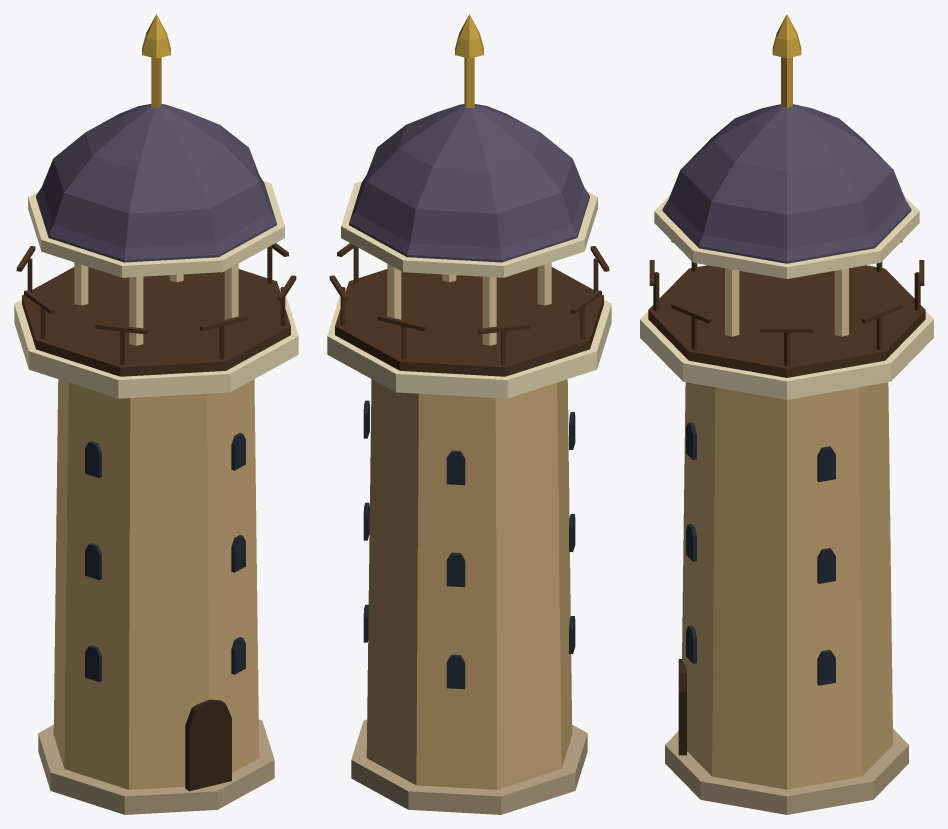
Rendered from tower_watch_round.fbx.
The picture shows the model from 3 angles, left to right: view 1: azimuth 30°, elevation 25°; view 2: azimuth 150°, elevation 25°; view 3: azimuth 270°, elevation 25°; orthographic projection.
Visible parts, largest first — view 1: tower_watch_round; view 2: tower_watch_round; view 3: tower_watch_round.
Boxes of the visible parts, x1,y1,x2,y2 form: tower_watch_round: (14, 14, 298, 814); tower_watch_round: (327, 14, 611, 814); tower_watch_round: (640, 14, 933, 814).
Size of the model in its own units: 7.2 by 20.25 by 7.2.
1 material, 1 textured.
